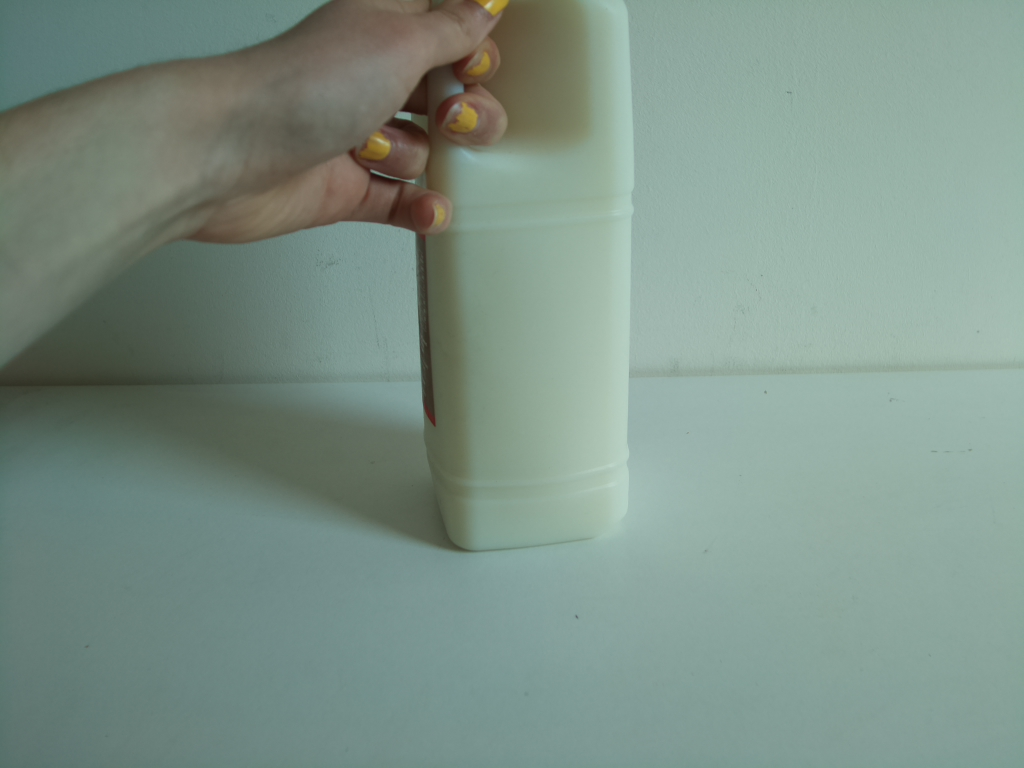milk: (415, 1, 640, 559)
